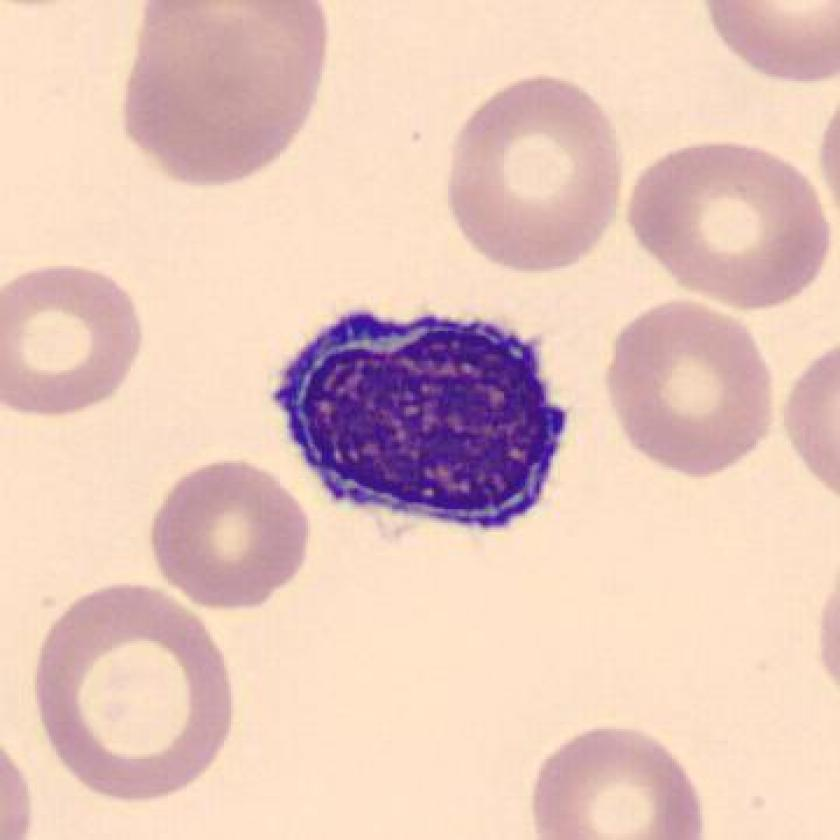lymphocyte: (263, 279, 585, 568)
